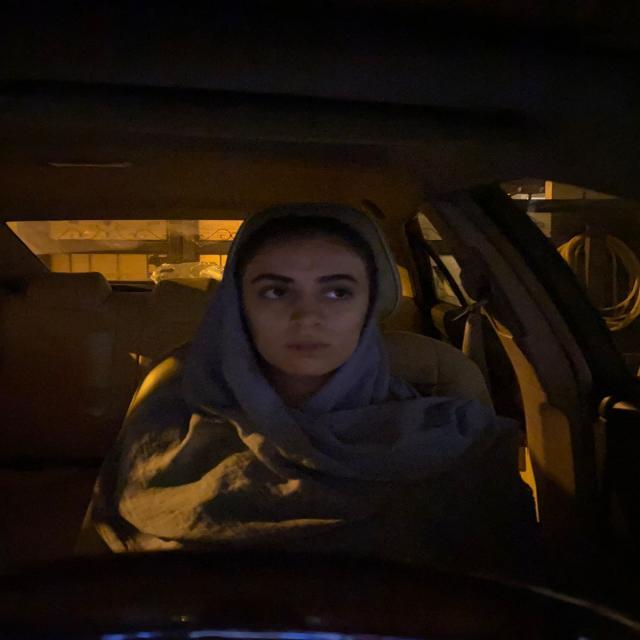person: (234, 203, 380, 394)
